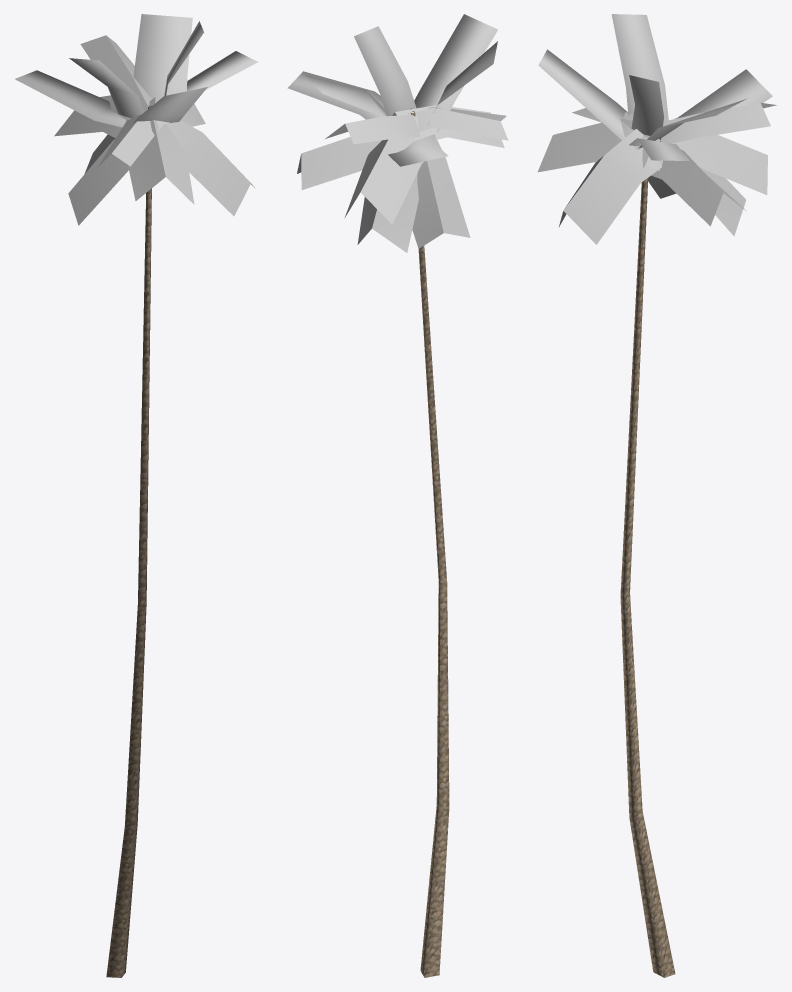
Rendered from PalmTree1.FBX.
3 views of the same model, side by side, from view 1: azimuth 30°, elevation 25°; view 2: azimuth 150°, elevation 25°; view 3: azimuth 270°, elevation 25° (orthographic). The views are drawn at different scales.
Parts seen in each view (by area): view 1: PalmTree1__13_; view 2: PalmTree1__13_; view 3: PalmTree1__13_.
Part boxes in pixels (x1,y1,x2,y2): PalmTree1__13_: (15, 14, 257, 977); PalmTree1__13_: (287, 14, 508, 977); PalmTree1__13_: (538, 14, 776, 977).
Bounding box in the file's own units: 72.9 × 335 × 77.64.
